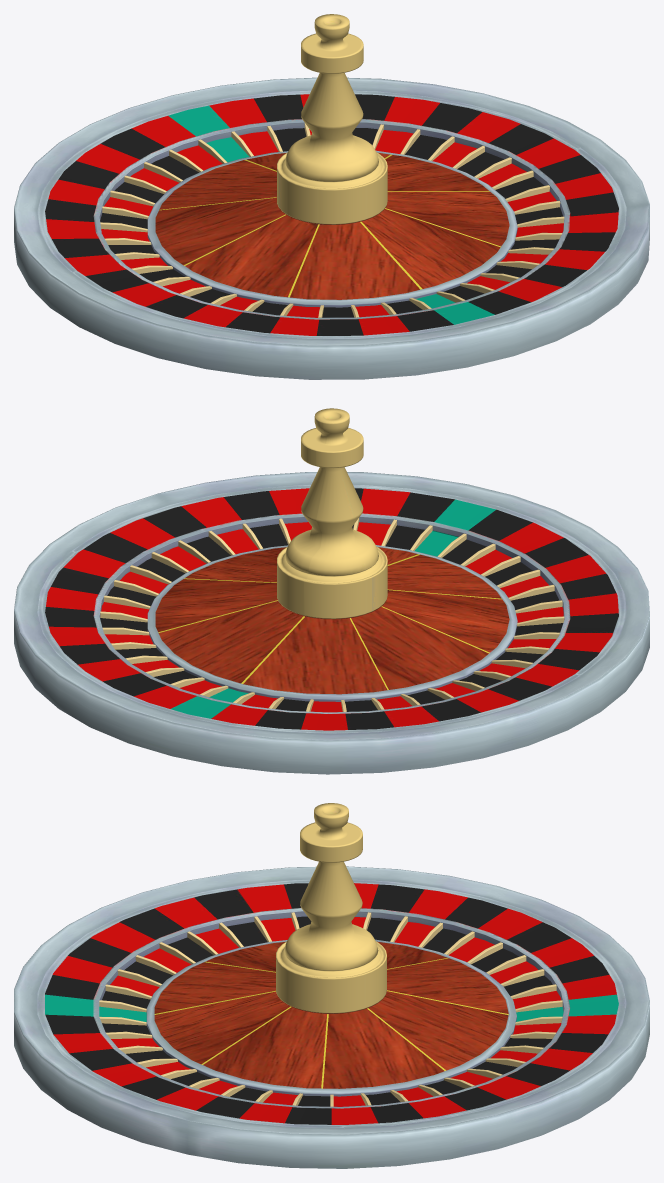
The model's file is RouletteWheelAmerican.fbx.
3 views of the same model, one above another, from view 1: azimuth 30°, elevation 25°; view 2: azimuth 150°, elevation 25°; view 3: azimuth 270°, elevation 25° (orthographic).
Visible parts, largest first — view 1: americanwheel; view 2: americanwheel; view 3: americanwheel.
Part boxes in pixels (box(x1,y1,x2,y2)): americanwheel: box(14, 14, 649, 379); americanwheel: box(14, 408, 649, 774); americanwheel: box(14, 803, 649, 1168).
Bounding box in the file's own units: 660 × 257 × 660.
